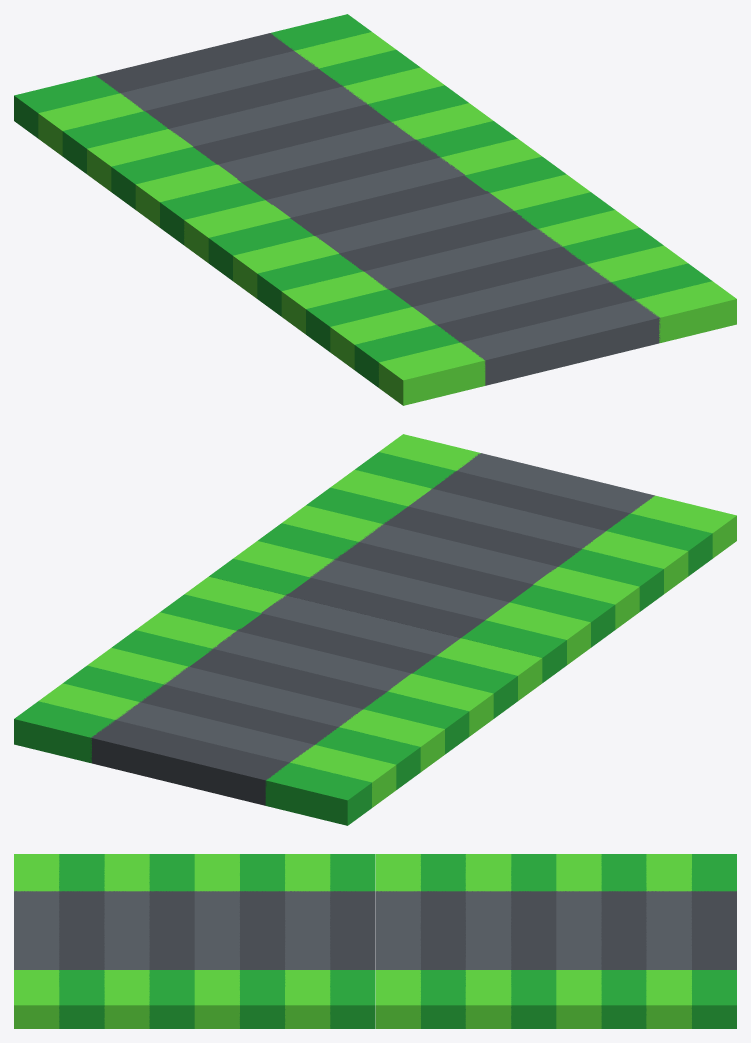
File: GroundTile 1.fbx
3 renders of one model, top to bottom at view 1: azimuth 30°, elevation 25°; view 2: azimuth 150°, elevation 25°; view 3: azimuth 270°, elevation 25°, orthographic. The views are drawn at different scales.
Visible parts, largest first — view 1: Center, GrassLeft, Center_10, Center_7, Center_9, Center_13, Center_4, Center_2, Center_14, Center_6, Center_12, Center_3 (+36 smaller); view 2: Center_13, GrassLeft_13, Center_10, Center_12, Center_4, Center_14, Center_7, Center, Center_3, Center_8, Center_5, Center_9 (+36 smaller); view 3: Center_8, Center_1, Center_2, Center_3, Center_5, Center_6, Center_9, Center_10, Center_12, Center_14, Center_15, Center (+36 smaller).
Part boxes in pixels (<box>): Center: <box>461,300,660,385</box>; GrassLeft: <box>378,342,485,405</box>; Center_10: <box>266,157,465,217</box>; Center_7: <box>339,211,537,271</box>; Center_9: <box>193,104,390,164</box>; Center_13: <box>96,33,293,93</box>; Center_4: <box>315,193,513,253</box>; Center_2: <box>413,264,610,324</box>; Center_14: <box>169,86,366,146</box>; Center_6: <box>364,229,562,289</box>; Center_12: <box>121,51,318,111</box>; Center_3: <box>388,247,585,306</box>; Center_13: <box>90,720,289,805</box>; GrassLeft_13: <box>265,762,371,825</box>; Center_10: <box>261,595,460,655</box>; Center_12: <box>115,702,314,762</box>; Center_4: <box>310,559,509,619</box>; Center_14: <box>164,666,362,726</box>; Center_7: <box>334,542,533,602</box>; Center: <box>457,453,654,513</box>; Center_3: <box>383,506,581,566</box>; Center_8: <box>213,631,410,691</box>; Center_5: <box>285,578,484,637</box>; Center_9: <box>189,649,387,709</box>; Center_8: <box>465,891,511,969</box>; Center_1: <box>59,891,104,969</box>; Center_2: <box>104,891,149,969</box>; Center_3: <box>149,891,194,969</box>; Center_5: <box>330,891,375,969</box>; Center_6: <box>194,891,239,969</box>; Center_9: <box>511,891,556,969</box>; Center_10: <box>375,891,420,969</box>; Center_12: <box>646,891,691,969</box>; Center_14: <box>556,891,601,969</box>; Center_15: <box>601,891,646,969</box>; Center: <box>14,891,59,969</box>.
Size of the model in its own units: 1236 by 90.25 by 2497.
